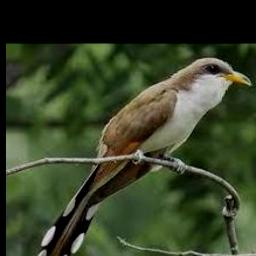Cuckoo: (35, 58, 250, 256)
